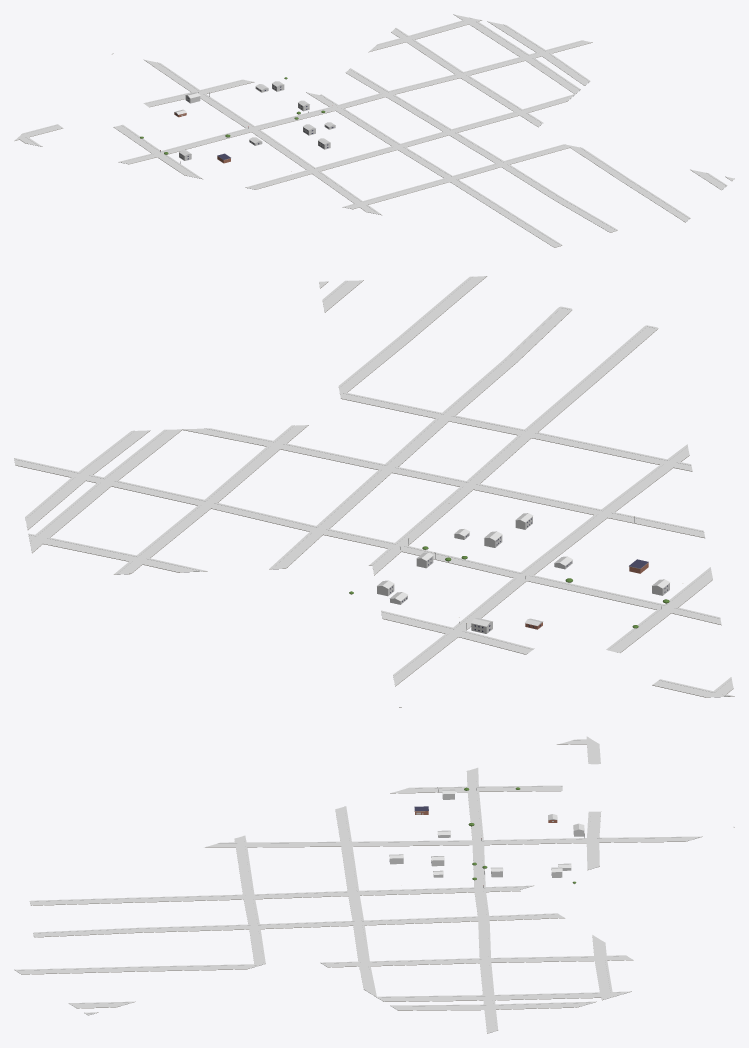
3 views of the same model, one above another, from view 1: azimuth 30°, elevation 25°; view 2: azimuth 150°, elevation 25°; view 3: azimuth 270°, elevation 25° (orthographic). The views are drawn at different scales.
Visible parts, largest first — view 1: col_road, col_sidewalk, sidewalk, col_curb, col_building; view 2: col_road, col_sidewalk, col_curb, sidewalk, col_building; view 3: col_road, col_sidewalk, col_curb, sidewalk, col_building.
Part boxes in pixels (left/top/right/bottom): col_road: left=16, top=15, right=734, bottom=246; col_sidewalk: left=14, top=14, right=732, bottom=247; sidewalk: left=15, top=14, right=732, bottom=247; col_curb: left=23, top=18, right=728, bottom=244; col_building: left=174, top=81, right=335, bottom=160; col_road: left=14, top=276, right=732, bottom=697; col_sidewalk: left=14, top=276, right=733, bottom=707; col_curb: left=15, top=277, right=732, bottom=697; sidewalk: left=15, top=276, right=734, bottom=707; col_building: left=377, top=513, right=670, bottom=633; col_road: left=16, top=738, right=698, bottom=1032; col_sidewalk: left=14, top=736, right=734, bottom=1033; col_curb: left=15, top=737, right=699, bottom=1032; sidewalk: left=21, top=744, right=734, bottom=1033; col_building: left=389, top=789, right=584, bottom=877.
Size of the model in its own units: 689 by 8.17 by 705.
